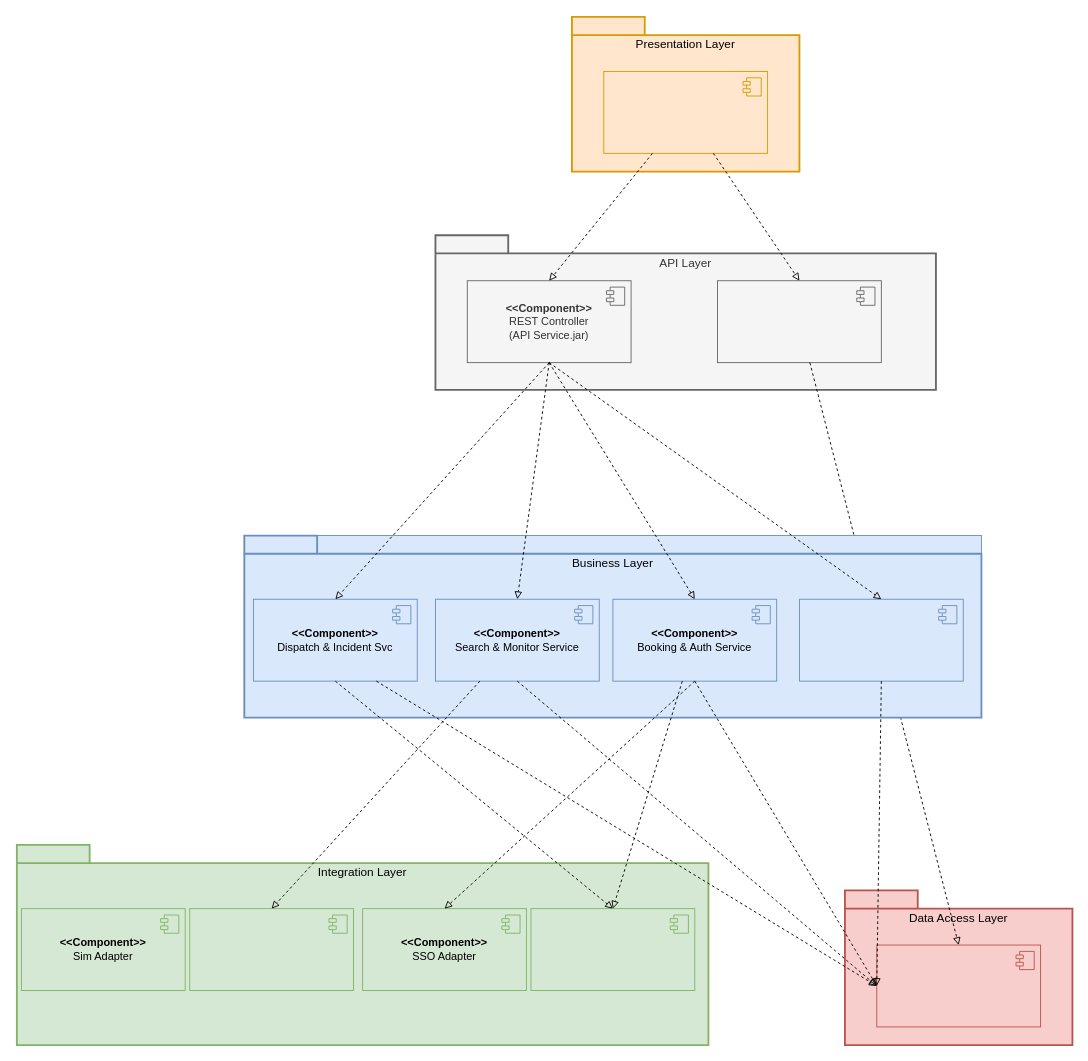
The diagram is 1088 pixels wide and 1061 high, and some of its shapes have lost their labels. The shapes that lost their labels are listed below. From the top down, each one's box as (x1, y1, x2, y2) in pixels, then its label:
(603, 71, 768, 153): <<Component>> Web Client (SPA)
(717, 280, 881, 363): <<Component>> Realtime Gateway (Realtime Gateway.jar)
(799, 598, 963, 681): <<Component>> Simulation & Schedule Svc
(189, 908, 354, 991): <<Component>> Map Adapter
(530, 908, 695, 991): <<Component>> Notify Adapter
(876, 944, 1041, 1027): <<Component>> DataAccess (ORM)
